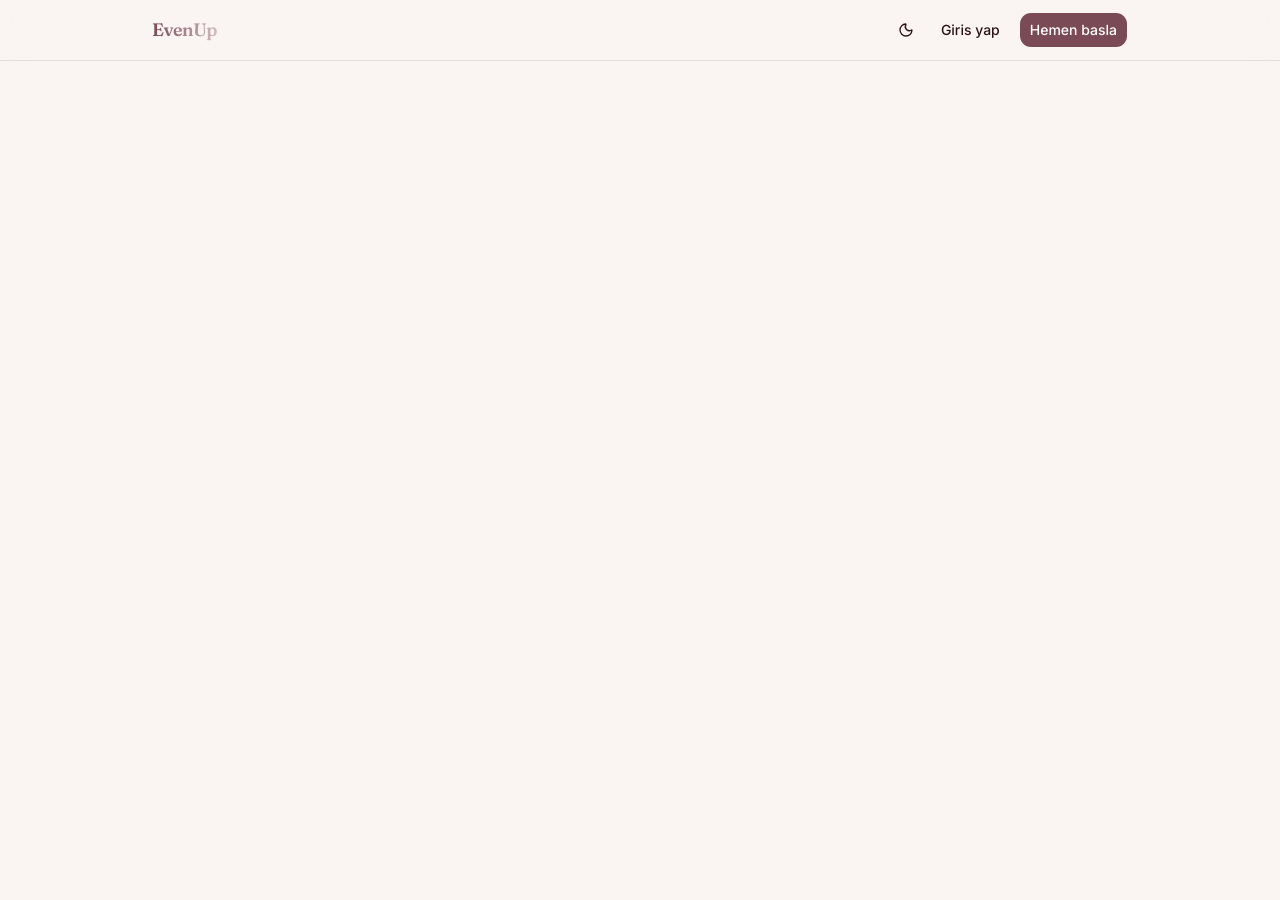
Test case: giris yapilmamis kullanici › landing CTA kayit ekranina goturur
Click the link "Hemen basla" at (1073, 30), box [1019,12,1128,48]
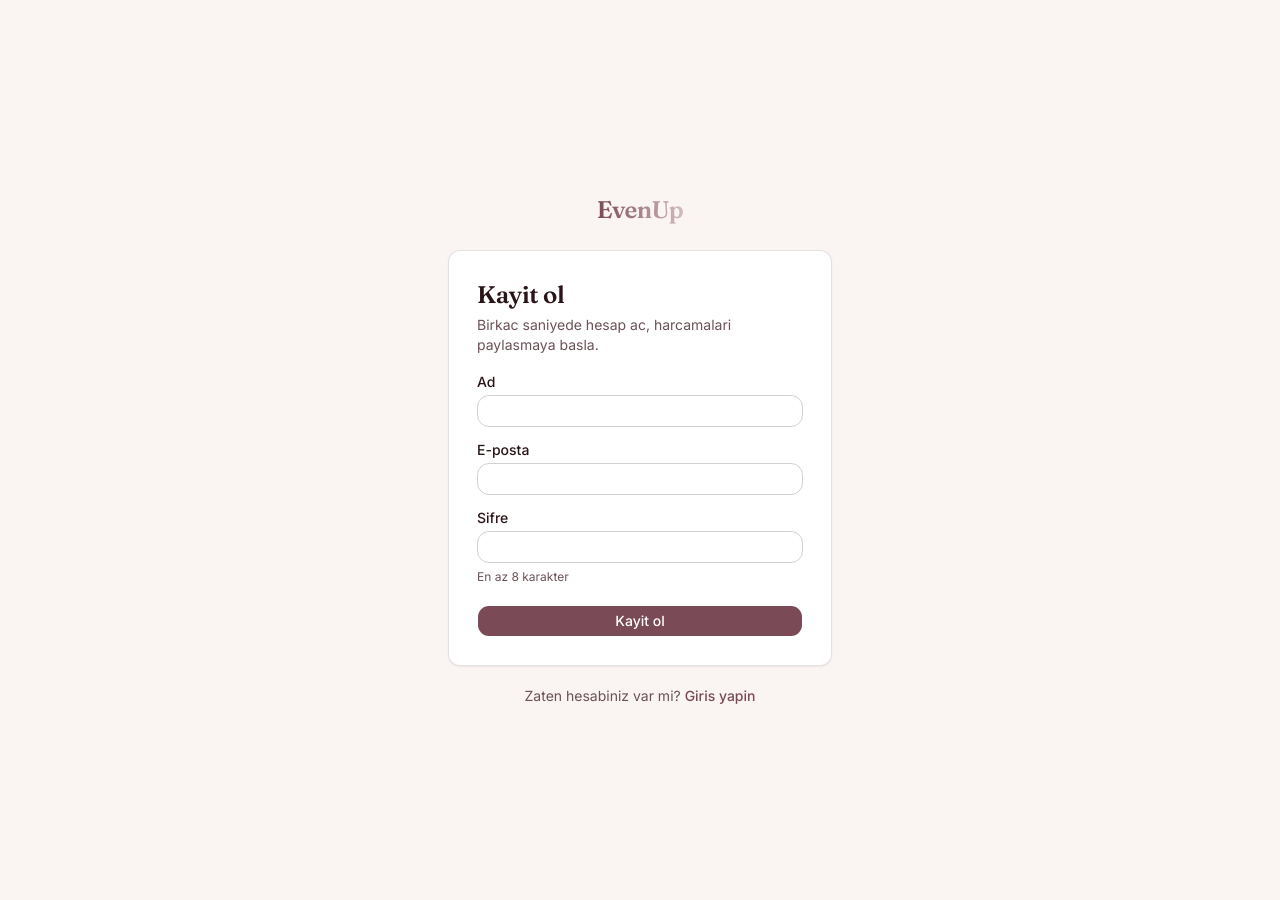
Now the heading "Kayit ol" is shown, box [477,280,564,309]
